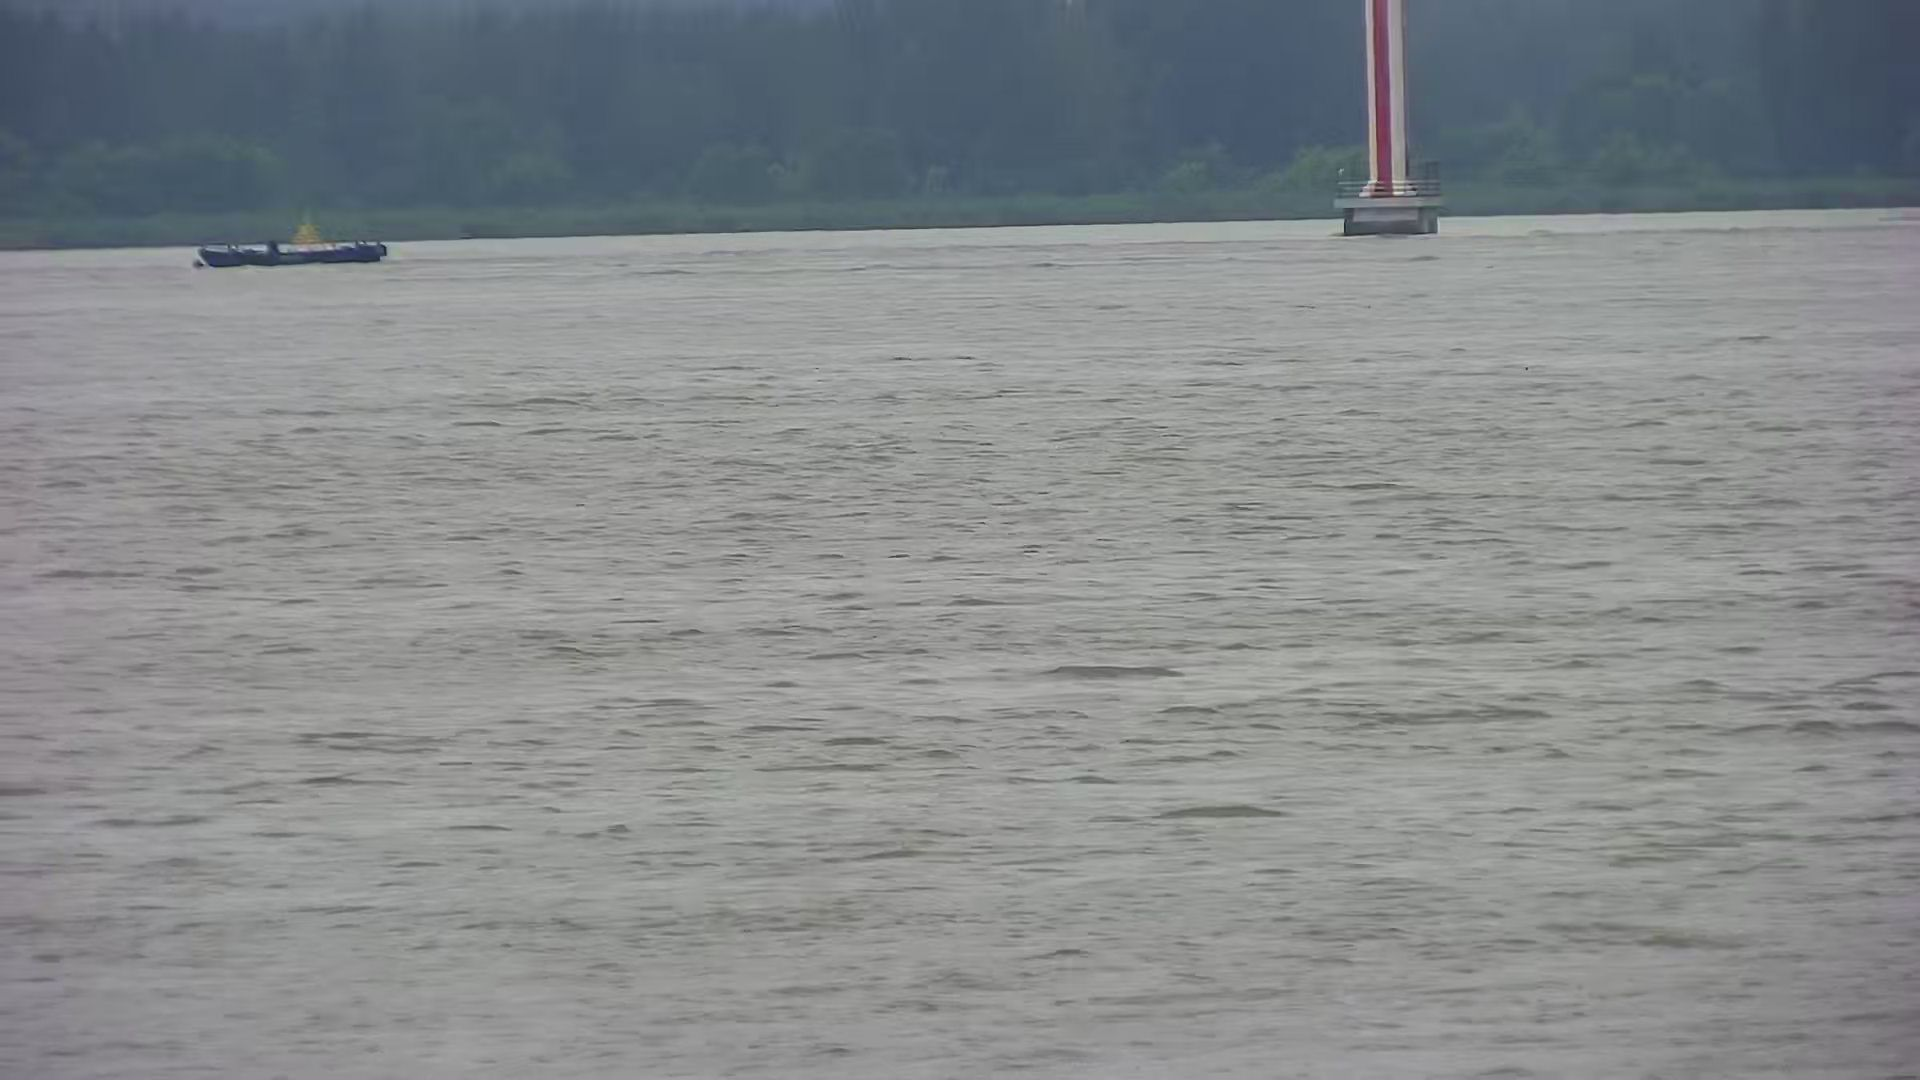boat: (186, 204, 390, 268)
platform: (1335, 4, 1445, 235)
